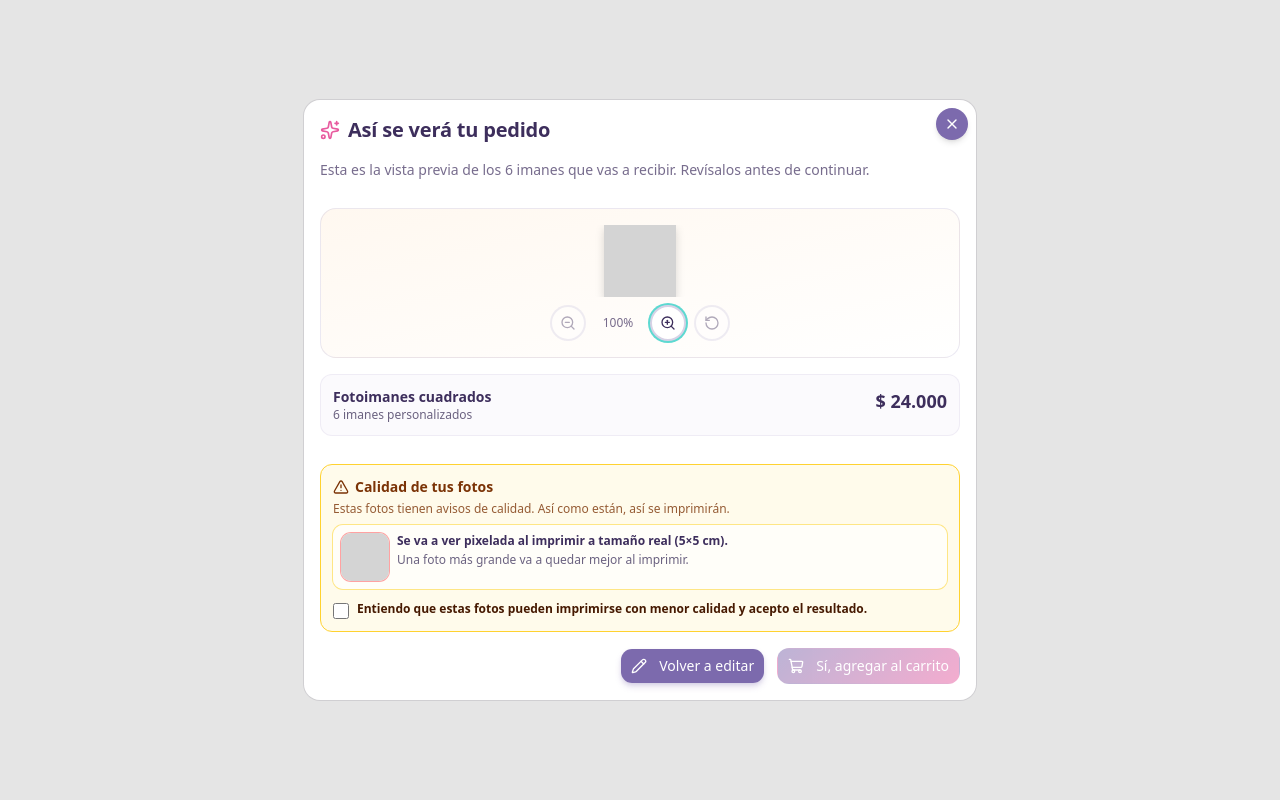
it: StudioPreviewModal — aceptación explícita de calidad de fotos (Paquete C) › desmarcar el checkbox vuelve a bloquear el confirmar
The image size is (1280, 800).
Click the checkbox: (341, 611) [333,603,349,619]
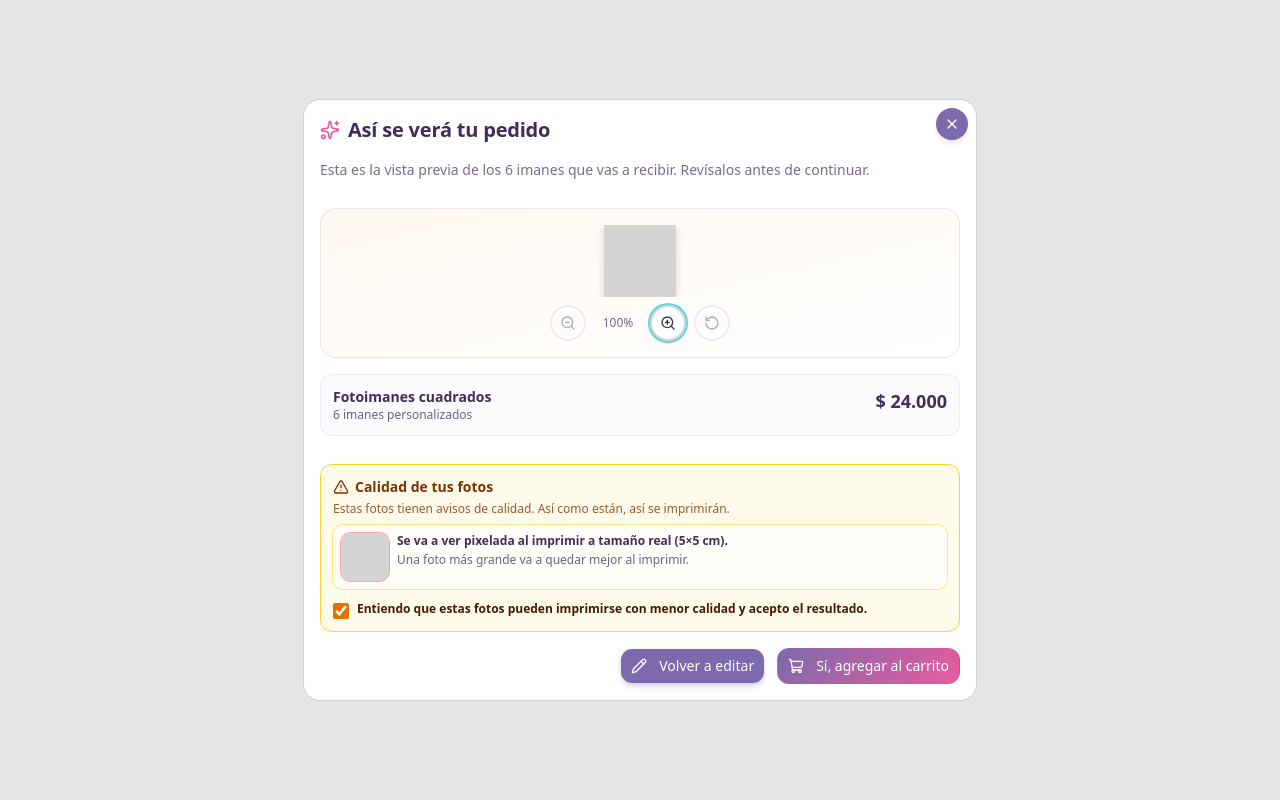
Result: the button "Sí, agregar al carrito" is enabled at [777,648,960,684]
Click the checkbox: (341, 611) [333,603,349,619]
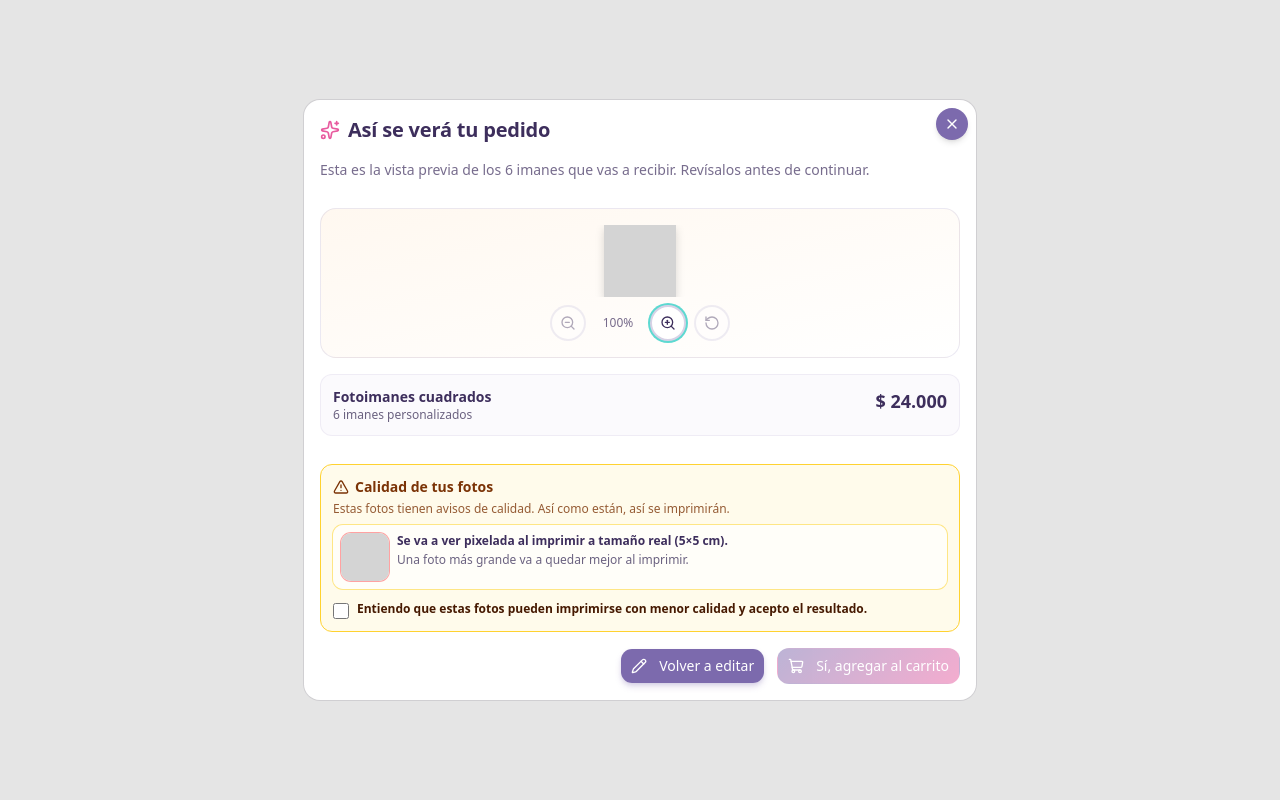
Result: the button "Sí, agregar al carrito" is disabled at [777,648,960,684]
